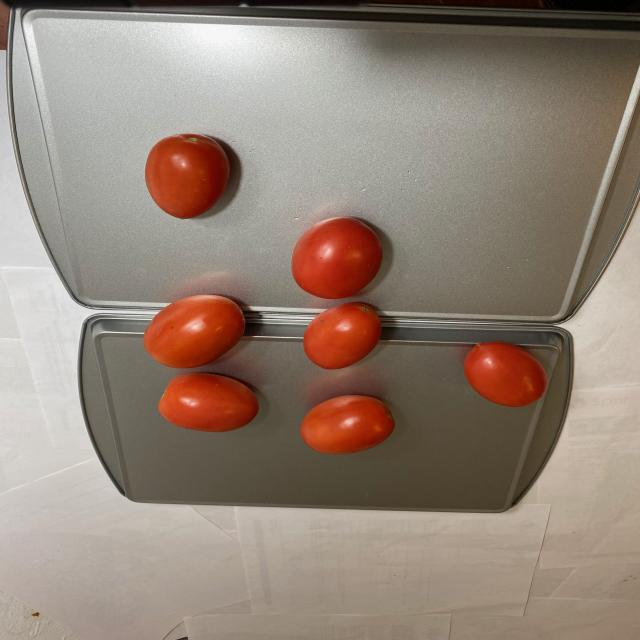tomato: (143, 129, 551, 455)
